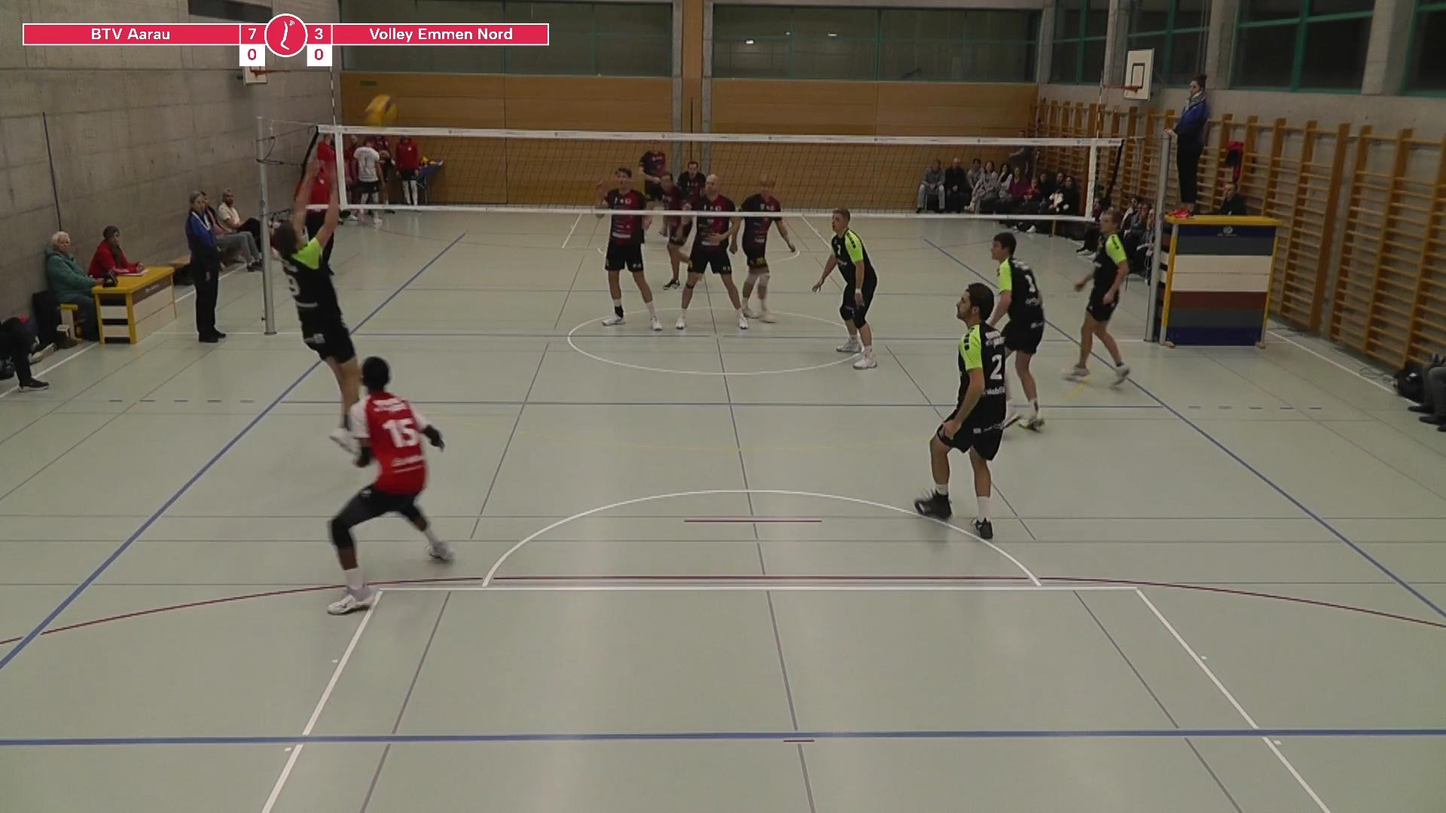ricezione: (265, 154, 374, 470)
